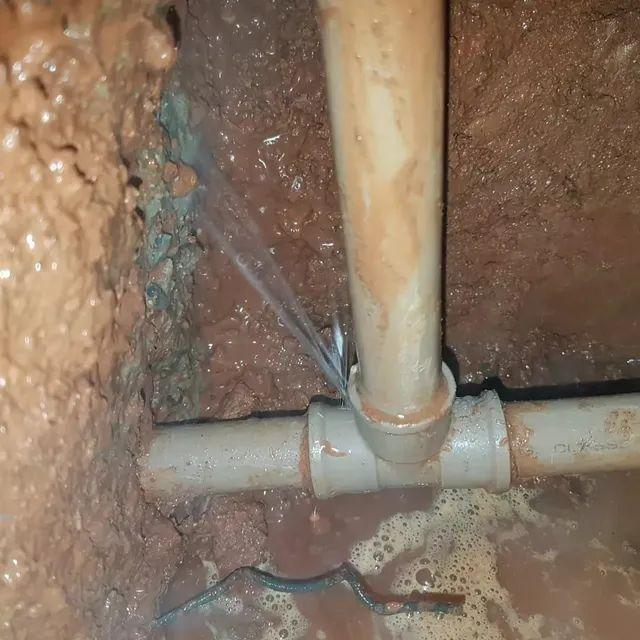leak: (160, 90, 346, 397)
